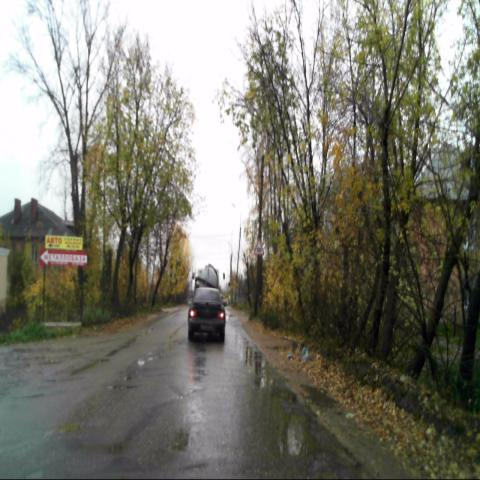1_1: (254, 237, 264, 255)
